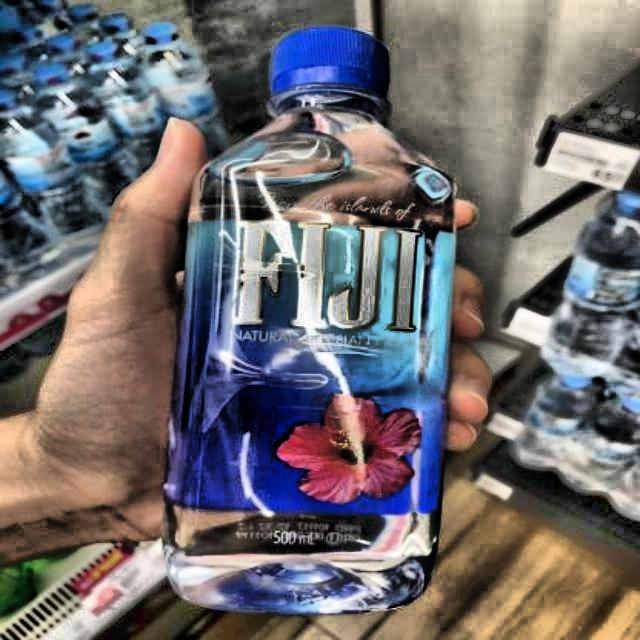Bottles: (160, 28, 472, 618)
